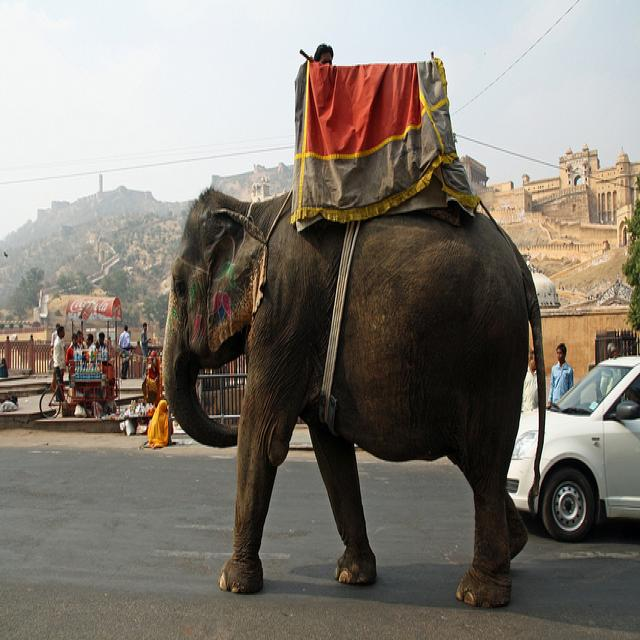Vehicle: (505, 352, 640, 545)
